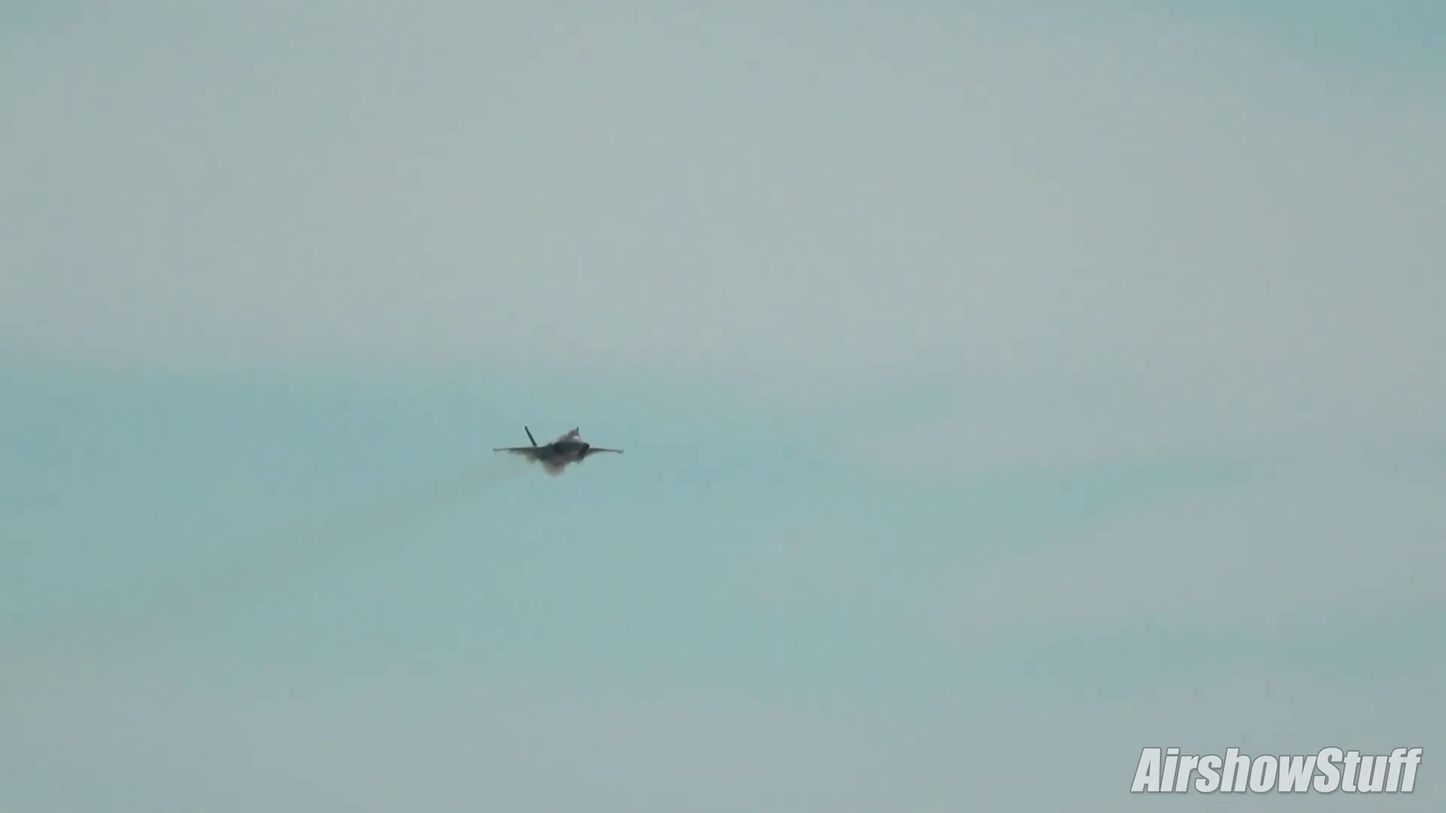F35: (495, 418, 628, 478)
